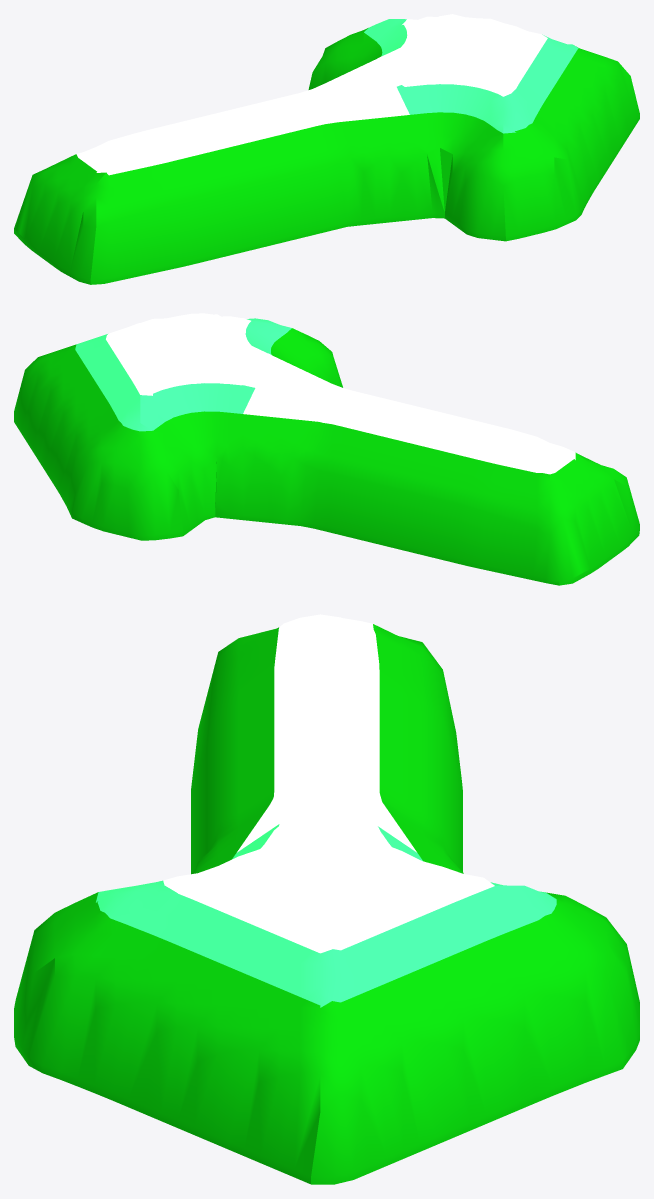
The model's file is arrow_right_114.glb.
3 renders of one model, top to bottom at view 1: azimuth 30°, elevation 25°; view 2: azimuth 150°, elevation 25°; view 3: azimuth 270°, elevation 25°, orthographic. The views are drawn at different scales.
Parts seen in each view (by area): view 1: arrow_right_114; view 2: arrow_right_114; view 3: arrow_right_114.
Part boxes in pixels (left/top/right/bottom): arrow_right_114: left=14, top=14, right=639, bottom=284; arrow_right_114: left=14, top=313, right=639, bottom=585; arrow_right_114: left=14, top=614, right=639, bottom=1184.
Size of the model in its own units: 12.07 by 2.52 by 6.9.
